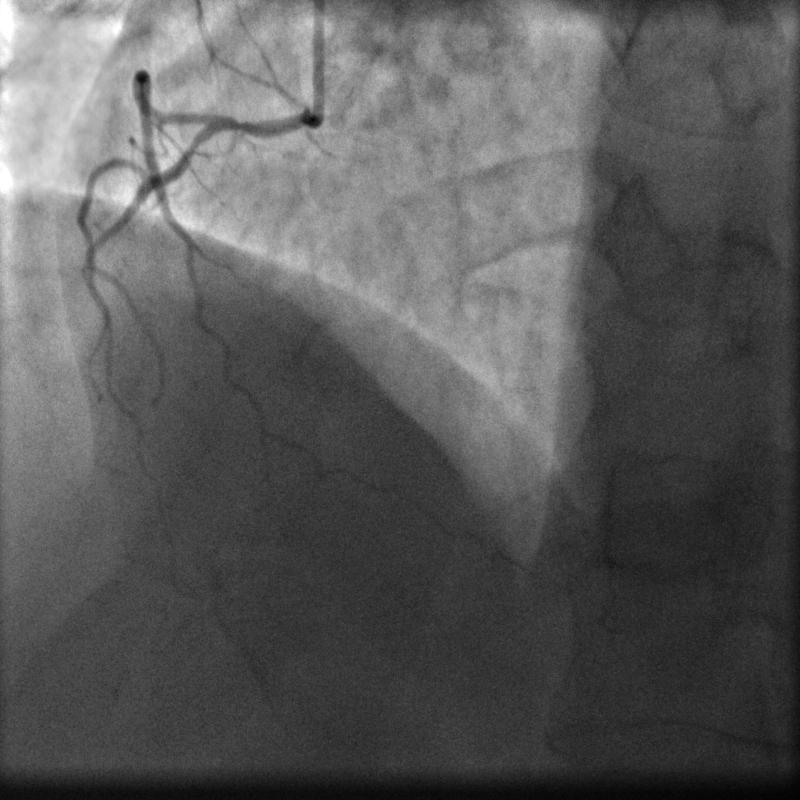Stenosis: (225, 109, 251, 140)
